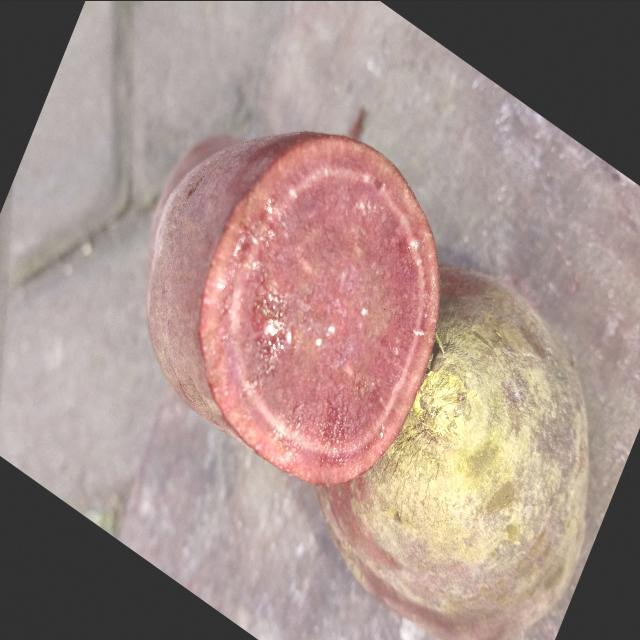Healthy Sweet Potato: (200, 135, 439, 483)
